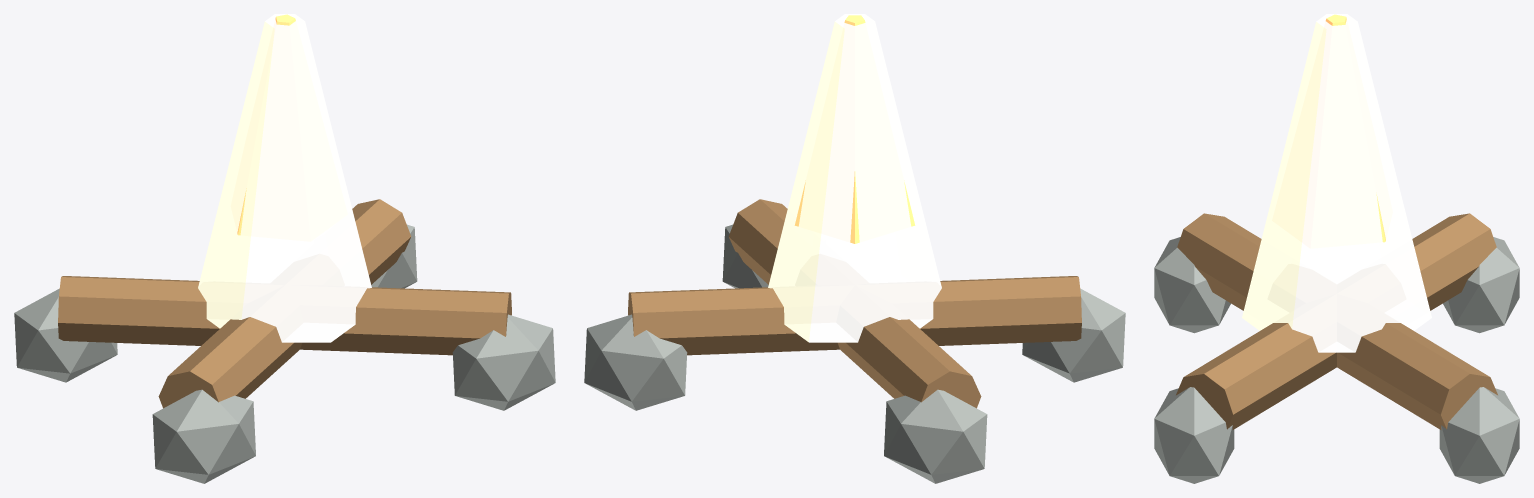
Rendered from campfire.glb.
3 views of the same model, side by side, from view 1: azimuth 30°, elevation 25°; view 2: azimuth 150°, elevation 25°; view 3: azimuth 270°, elevation 25° (orthographic). The views are drawn at different scales.
Parts seen in each view (by area): view 1: CampfireFlameA, CampfireLog.001, CampfireLog, CampfireStone, CampfireStone.002, CampfireStone.001, CampfireStone.003; view 2: CampfireFlameA, CampfireLog, CampfireLog.001, CampfireStone.001, CampfireStone.003, CampfireStone, CampfireStone.002, CampfireFlameB; view 3: CampfireFlameA, CampfireLog, CampfireLog.001, CampfireStone.002, CampfireStone.003, CampfireStone, CampfireStone.001.
Part boxes in pixels (x1,y1,x2,y2): CampfireFlameA: [198, 14, 371, 342]; CampfireLog.001: [58, 276, 511, 355]; CampfireLog: [158, 199, 411, 408]; CampfireStone: [152, 389, 255, 483]; CampfireStone.002: [452, 314, 555, 410]; CampfireStone.001: [14, 288, 117, 382]; CampfireStone.003: [371, 224, 417, 288]; CampfireFlameA: [768, 14, 941, 342]; CampfireLog: [628, 276, 1081, 355]; CampfireLog.001: [728, 199, 981, 408]; CampfireStone.001: [884, 389, 987, 483]; CampfireStone.003: [584, 314, 687, 410]; CampfireStone: [1022, 288, 1125, 382]; CampfireStone.002: [722, 224, 768, 288]; CampfireFlameB: [794, 15, 915, 243]; CampfireFlameA: [1242, 14, 1431, 352]; CampfireLog: [1177, 213, 1497, 429]; CampfireLog.001: [1176, 213, 1496, 429]; CampfireStone.002: [1154, 387, 1234, 483]; CampfireStone.003: [1439, 387, 1519, 483]; CampfireStone: [1154, 237, 1230, 333]; CampfireStone.001: [1443, 237, 1519, 333].
Size of the model in its own units: 0.7968 by 0.7235 by 0.6147.
